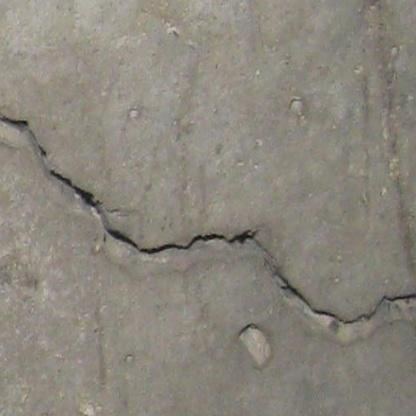Cracks: (275, 271, 416, 329), (104, 227, 260, 259), (0, 104, 52, 161), (47, 167, 100, 211)
